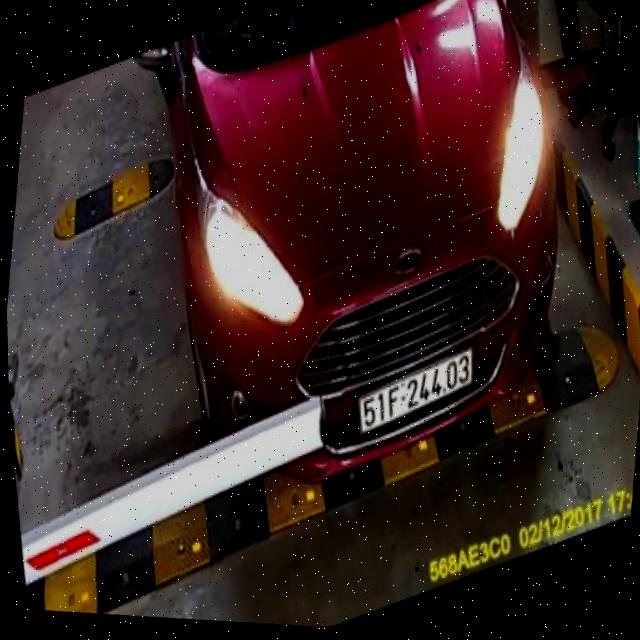car: (82, 0, 602, 522)
plate: (353, 336, 478, 446)
